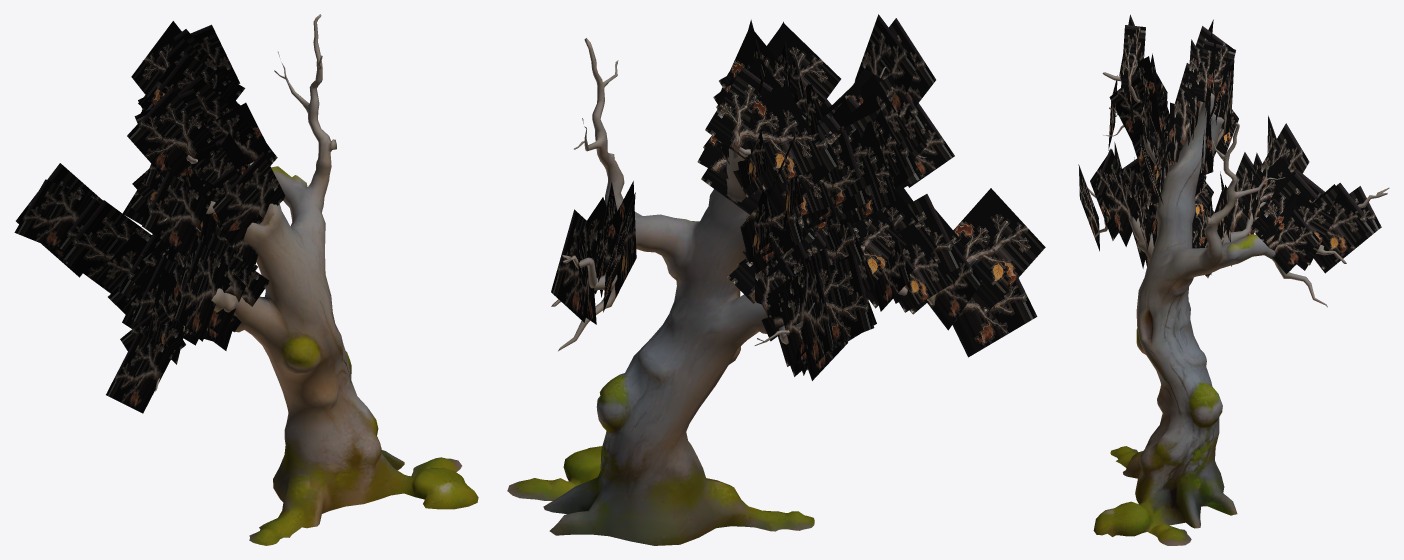
The model's file is dead_1.glb.
3 views of the same model, side by side, from view 1: azimuth 30°, elevation 25°; view 2: azimuth 150°, elevation 25°; view 3: azimuth 270°, elevation 25° (orthographic). The views are drawn at different scales.
Visible parts, largest first — view 1: Fable_dead_1; view 2: Fable_dead_1; view 3: Fable_dead_1.
Boxes of the visible parts, x1=… form: Fable_dead_1: x1=14, y1=14, x2=478, y2=545; Fable_dead_1: x1=507, y1=14, x2=1045, y2=545; Fable_dead_1: x1=1078, y1=14, x2=1389, y2=545.
Size of the model in its own units: 6.7 by 7.6 by 5.19.
2 materials, 2 textured.
